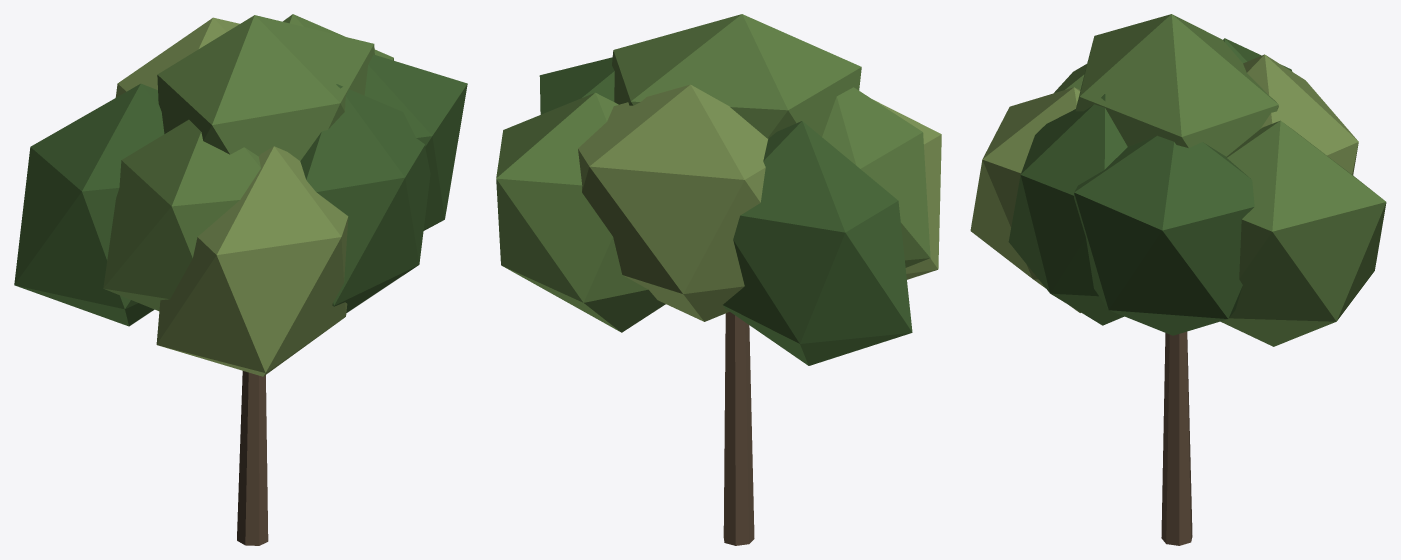
File: broad-irregular-lod1.glb
3 renders of one model, left to right at view 1: azimuth 30°, elevation 25°; view 2: azimuth 150°, elevation 25°; view 3: azimuth 270°, elevation 25°, orthographic.
Parts seen in each view (by area): view 1: broad-irregular_LOD1; view 2: broad-irregular_LOD1; view 3: broad-irregular_LOD1.
Boxes of the visible parts, box(x1,y1,x2,y2) form: broad-irregular_LOD1: box(14, 14, 467, 545); broad-irregular_LOD1: box(496, 14, 941, 545); broad-irregular_LOD1: box(970, 14, 1386, 545).
Size of the model in its own units: 6.82 by 8.3 by 5.96.
